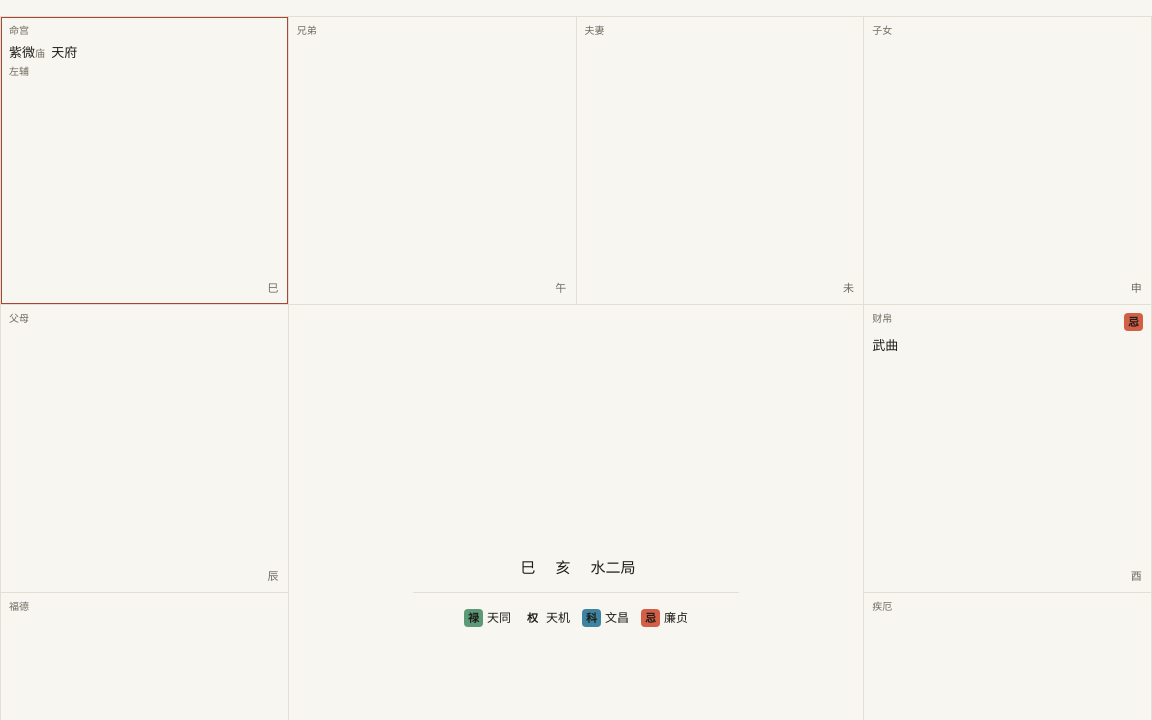
Scenario: ZiweiBoard：选中宫详情块（6b） › 点另一宫切换详情块
Step 1. Click the button with test id "palace-cell-财帛" → (882, 318), box [864,305,1151,592]
(page scrolled)
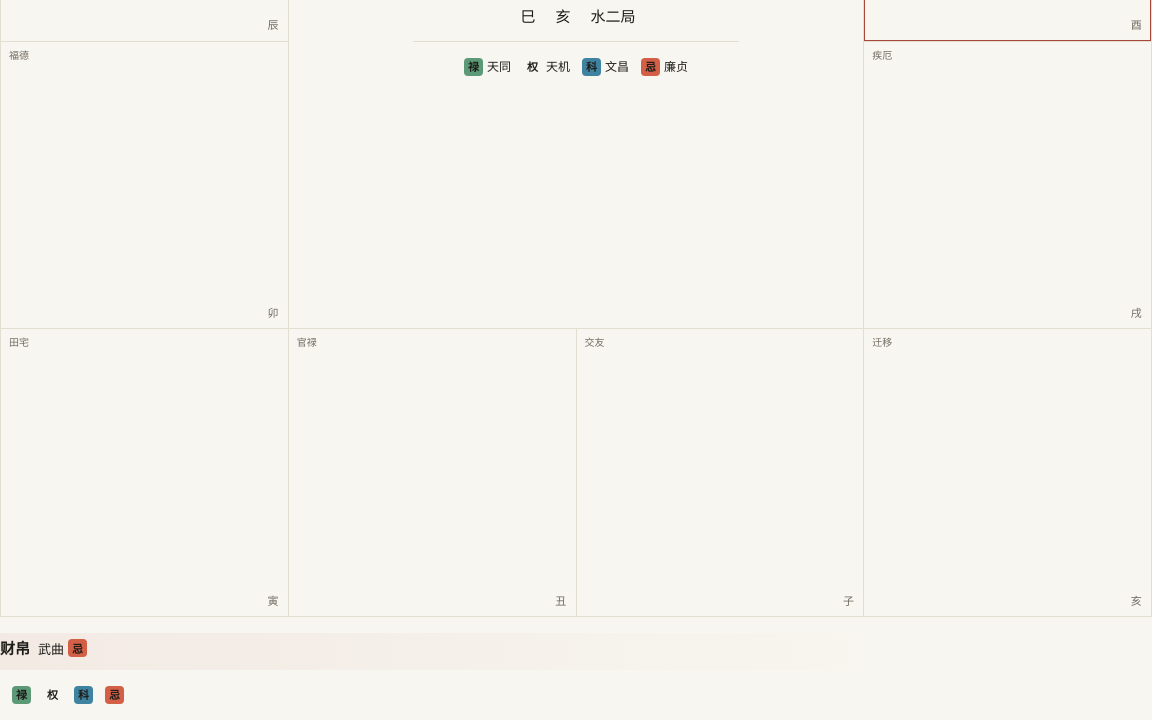
Now the element with test id "palace-detail" shows "财帛", box [0,637,30,658]
